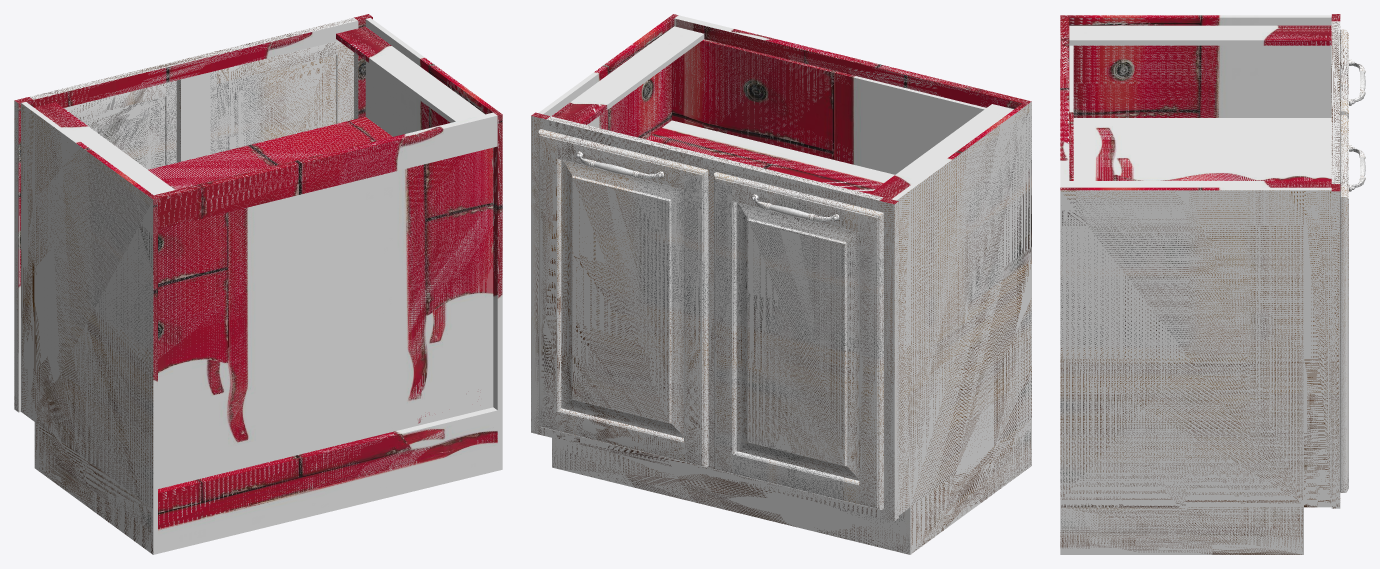
3 views of the same model, side by side, from view 1: azimuth 30°, elevation 25°; view 2: azimuth 150°, elevation 25°; view 3: azimuth 270°, elevation 25° (orthographic). The views are drawn at different scales.
Parts seen in each view (by area): view 1: mesh5_mesh5-geometry, mesh8_mesh8-geometry, mesh14_mesh14-geometry, mesh4_mesh4-geometry, mesh11_mesh11-geometry, mesh6_mesh6-geometry, mesh1_mesh1-geometry, mesh9_mesh9-geometry, mesh26_mesh26-geometry, mesh7_mesh7-geometry, mesh16_mesh16-geometry, mesh3_mesh3-geometry (+12 smaller); view 2: mesh8_mesh8-geometry, mesh5_mesh5-geometry, mesh42_mesh42-geometry, mesh27_mesh27-geometry, mesh15_mesh15-geometry, mesh25_mesh25-geometry, mesh40_mesh40-geometry, mesh6_mesh6-geometry, mesh24_mesh24-geometry, mesh3_mesh3-geometry, mesh39_mesh39-geometry, mesh9_mesh9-geometry (+19 smaller); view 3: mesh11_mesh11-geometry, mesh8_mesh8-geometry, mesh1_mesh1-geometry, mesh12_mesh12-geometry, mesh10_mesh10-geometry, mesh17_mesh17-geometry, mesh3_mesh3-geometry, mesh7_mesh7-geometry, mesh24_mesh24-geometry, mesh16_mesh16-geometry, mesh4_mesh4-geometry, mesh6_mesh6-geometry (+4 smaller).
Boxes of the visible parts, left/top/right/bottom form: mesh5_mesh5-geometry: left=158, top=147, right=493, bottom=488; mesh8_mesh8-geometry: left=34, top=111, right=157, bottom=508; mesh14_mesh14-geometry: left=158, top=407, right=497, bottom=553; mesh4_mesh4-geometry: left=154, top=112, right=497, bottom=229; mesh11_mesh11-geometry: left=379, top=27, right=502, bottom=424; mesh6_mesh6-geometry: left=29, top=17, right=358, bottom=107; mesh1_mesh1-geometry: left=148, top=117, right=392, bottom=189; mesh9_mesh9-geometry: left=34, top=422, right=157, bottom=554; mesh26_mesh26-geometry: left=230, top=72, right=322, bottom=149; mesh7_mesh7-geometry: left=21, top=102, right=38, bottom=421; mesh16_mesh16-geometry: left=336, top=26, right=484, bottom=122; mesh3_mesh3-geometry: left=14, top=14, right=372, bottom=412; mesh8_mesh8-geometry: left=905, top=100, right=1031, bottom=506; mesh5_mesh5-geometry: left=672, top=39, right=985, bottom=174; mesh42_mesh42-geometry: left=748, top=222, right=843, bottom=463; mesh27_mesh27-geometry: left=573, top=179, right=667, bottom=421; mesh15_mesh15-geometry: left=557, top=439, right=905, bottom=553; mesh25_mesh25-geometry: left=668, top=202, right=708, bottom=429; mesh40_mesh40-geometry: left=843, top=245, right=883, bottom=472; mesh6_mesh6-geometry: left=546, top=116, right=883, bottom=517; mesh24_mesh24-geometry: left=538, top=170, right=573, bottom=398; mesh3_mesh3-geometry: left=531, top=112, right=898, bottom=521; mesh39_mesh39-geometry: left=714, top=213, right=748, bottom=440; mesh9_mesh9-geometry: left=905, top=418, right=1031, bottom=554; mesh11_mesh11-geometry: left=1060, top=187, right=1303, bottom=507; mesh8_mesh8-geometry: left=1060, top=15, right=1303, bottom=117; mesh1_mesh1-geometry: left=1073, top=118, right=1331, bottom=180; mesh12_mesh12-geometry: left=1060, top=507, right=1303, bottom=554; mesh10_mesh10-geometry: left=1304, top=187, right=1331, bottom=507; mesh17_mesh17-geometry: left=1069, top=25, right=1331, bottom=45; mesh3_mesh3-geometry: left=1331, top=14, right=1340, bottom=508; mesh7_mesh7-geometry: left=1304, top=15, right=1331, bottom=117; mesh24_mesh24-geometry: left=1340, top=234, right=1348, bottom=454; mesh16_mesh16-geometry: left=1069, top=181, right=1331, bottom=187; mesh4_mesh4-geometry: left=1060, top=17, right=1069, bottom=187; mesh6_mesh6-geometry: left=1331, top=21, right=1340, bottom=183.
Bounding box in the file's own units: 0.6394 × 0.6127 × 0.4645.
